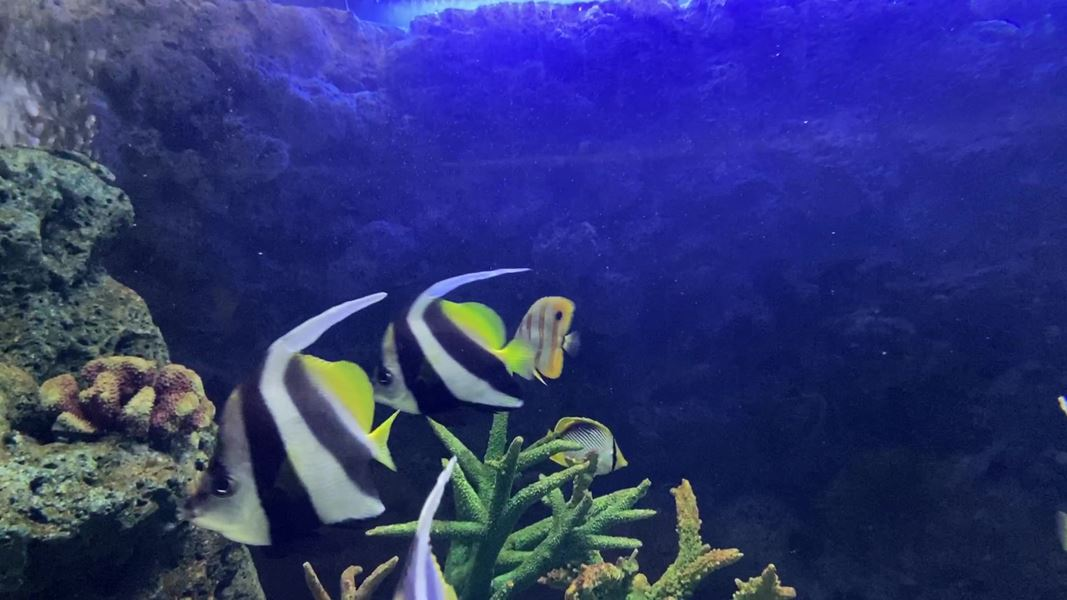Black-backed butterflyfish: (538, 410, 634, 482)
